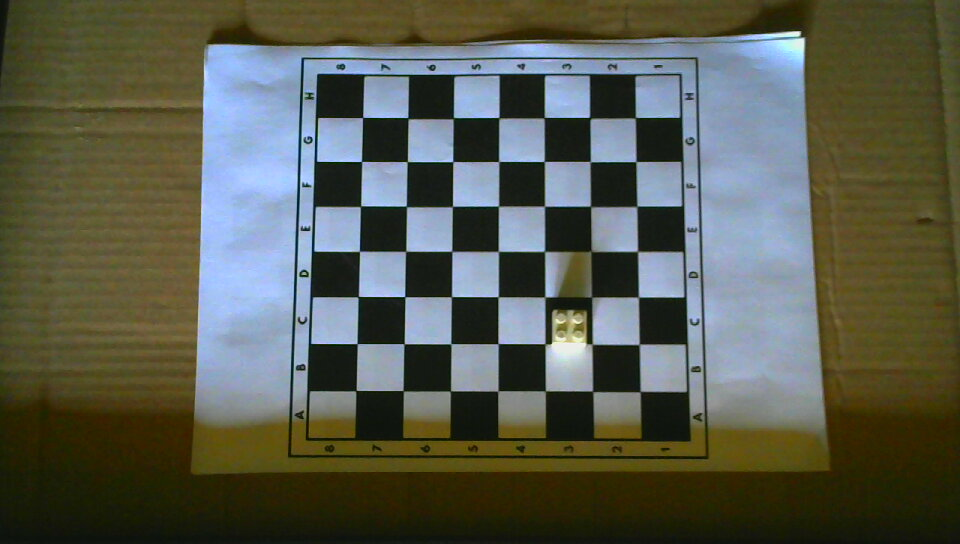wp: (548, 306, 589, 352)
